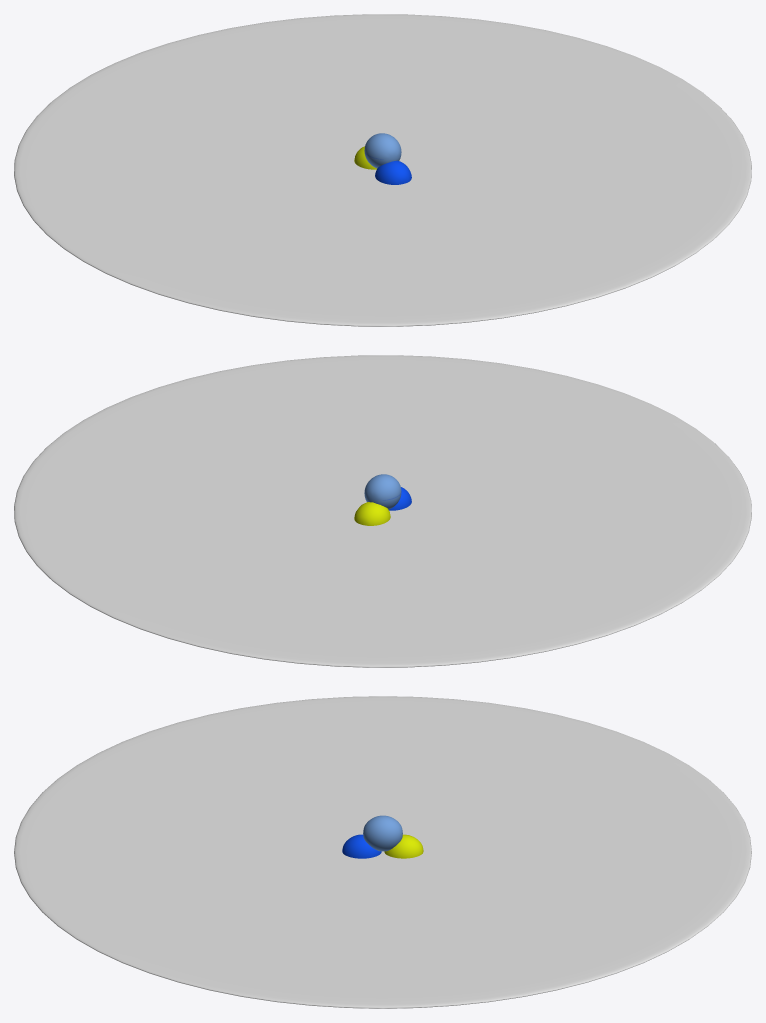
File: PurificazioneAcqua_Subdivision.fbx
3 renders of one model, top to bottom at view 1: azimuth 30°, elevation 25°; view 2: azimuth 150°, elevation 25°; view 3: azimuth 270°, elevation 25°, orthographic.
Visible parts, largest first — view 1: MembranaPorosa_High, Molecola_Pulita_High; view 2: MembranaPorosa_High, Molecola_Pulita_High, Molecola_Sporca_High; view 3: MembranaPorosa_High, Molecola_Pulita_High, Molecola_Sporca_High.
Boxes of the visible parts, x1,y1,x2,y2 form: MembranaPorosa_High: (14,14,751,326); Molecola_Pulita_High: (364,133,411,184); MembranaPorosa_High: (14,355,751,667); Molecola_Pulita_High: (364,474,411,510); Molecola_Sporca_High: (354,502,390,525); MembranaPorosa_High: (14,696,751,1008); Molecola_Pulita_High: (342,815,402,858); Molecola_Sporca_High: (384,834,423,858).
Bounding box in the file's own units: 800 × 84.42 × 800.
2 materials, 1 textured.
